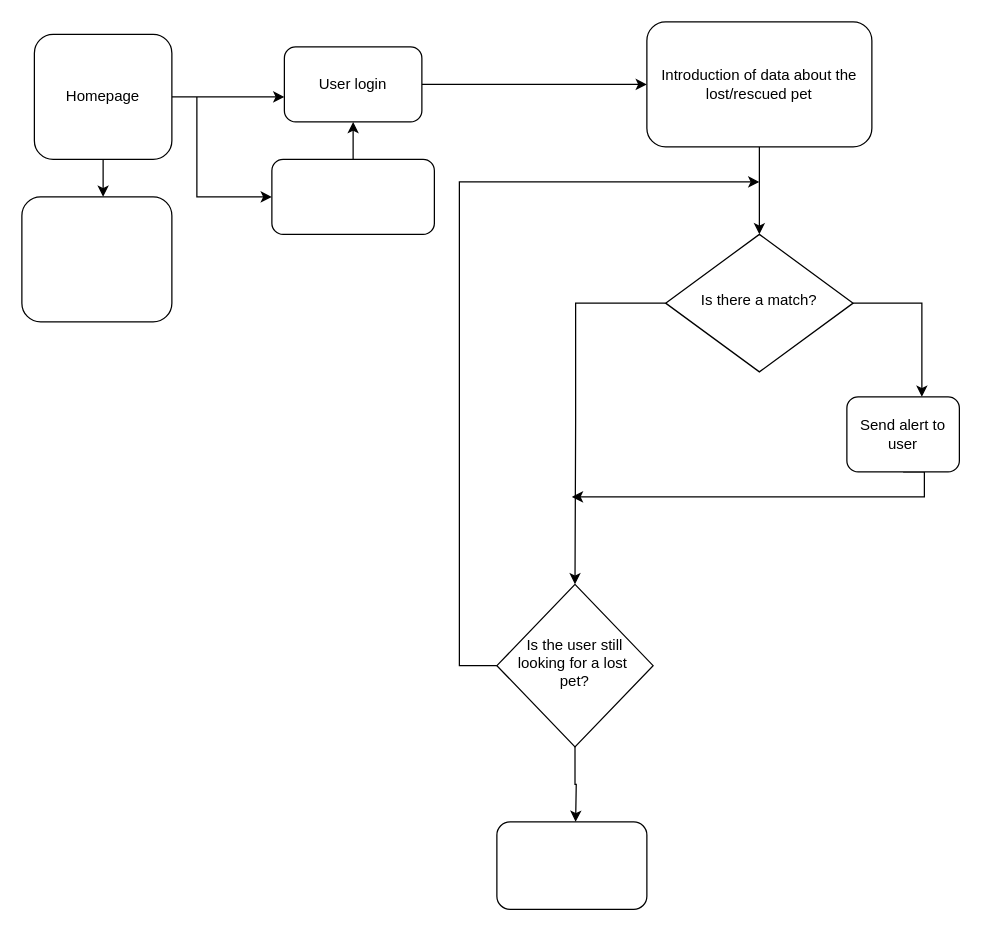
Some shapes in this 981 by 931 pixel diagram are drawn without their labels. The centre of each missing label's shape, as x and y in pixels:
"Change pet type to null" goes at (571,865).
"Create a new user" goes at (352,196).
"Instructions when you found o lost a pet." goes at (96,259).
